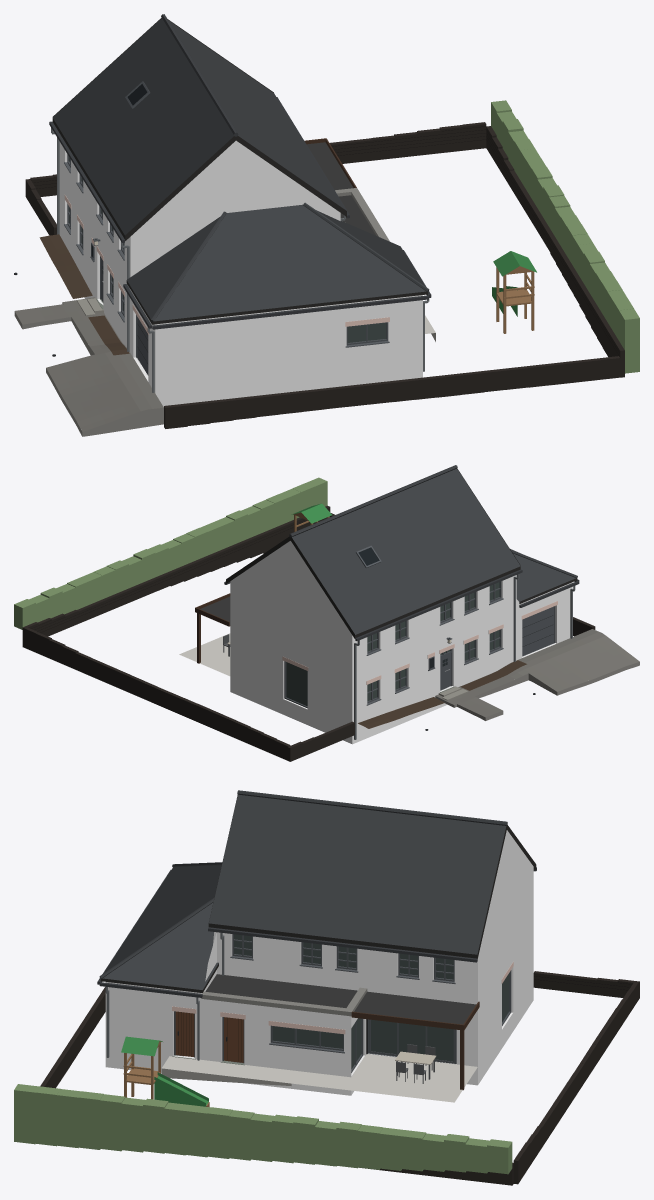
File: kapellenhoek_home.glb
3 views of the same model, one above another, from view 1: azimuth 30°, elevation 25°; view 2: azimuth 150°, elevation 25°; view 3: azimuth 270°, elevation 25° (orthographic). The views are drawn at different scales.
Parts seen in each view (by area): view 1: vh_roof, vh_brick, vh_trim, vh_hedge, vh_paving, vh_stone, vh_frames_small, vh_wood_small, vh_glass, vh_doors, vh_soldier; view 2: vh_brick, vh_roof, vh_trim, vh_hedge, vh_paving, vh_frames_small, vh_glass, vh_stone, vh_doors, vh_gravel, vh_soldier, vh_wood_small; view 3: vh_roof, vh_brick, vh_hedge, vh_trim, vh_stone, vh_gravel, vh_glass, vh_frames_small, vh_wood_small, vh_doors, vh_soldier.
Part boxes in pixels (left/top/right/bottom): vh_roof: left=52, top=14, right=429, bottom=322; vh_brick: left=59, top=140, right=422, bottom=406; vh_trim: left=25, top=17, right=624, bottom=428; vh_hedge: left=491, top=100, right=639, bottom=373; vh_paving: left=15, top=297, right=163, bottom=431; vh_stone: left=14, top=142, right=435, bottom=436; vh_frames_small: left=49, top=81, right=431, bottom=392; vh_wood_small: left=492, top=251, right=536, bottom=333; vh_glass: left=69, top=157, right=385, bottom=342; vh_doors: left=101, top=259, right=148, bottom=375; vh_soldier: left=64, top=194, right=389, bottom=334; vh_brick: left=230, top=541, right=572, bottom=744; vh_roof: left=289, top=465, right=577, bottom=634; vh_trim: left=22, top=468, right=595, bottom=761; vh_hedge: left=14, top=477, right=327, bottom=629; vh_paving: left=435, top=629, right=639, bottom=717; vh_frames_small: left=224, top=545, right=579, bottom=739; vh_glass: left=286, top=582, right=499, bottom=706; vh_stone: left=200, top=596, right=639, bottom=720; vh_doors: left=440, top=606, right=553, bottom=690; vh_gravel: left=179, top=633, right=230, bottom=676; vh_soldier: left=282, top=601, right=557, bottom=684; vh_wood_small: left=223, top=503, right=331, bottom=656; vh_roof: left=99, top=790, right=507, bottom=989; vh_brick: left=105, top=830, right=533, bottom=1095; vh_hedge: left=14, top=1084, right=512, bottom=1174; vh_trim: left=40, top=795, right=639, bottom=1185; vh_stone: left=161, top=956, right=476, bottom=1085; vh_gravel: left=162, top=1054, right=477, bottom=1102; vh_glass: left=234, top=934, right=509, bottom=1068; vh_frames_small: left=97, top=867, right=536, bottom=1072; vh_wood_small: left=121, top=1036, right=436, bottom=1107; vh_doors: left=175, top=1011, right=455, bottom=1063; vh_soldier: left=172, top=962, right=513, bottom=1034.
Bounding box in the file's own units: 28.82 × 10.53 × 26.97.
